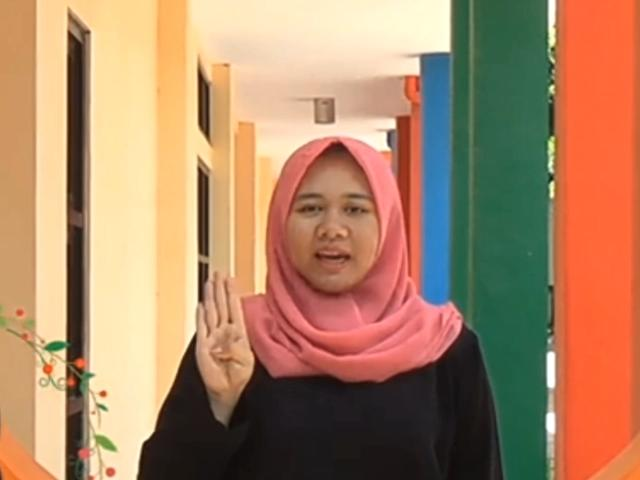B: (195, 268, 255, 394)
